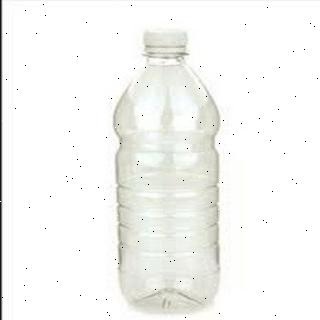Plastic-bottle: (108, 28, 232, 319)
